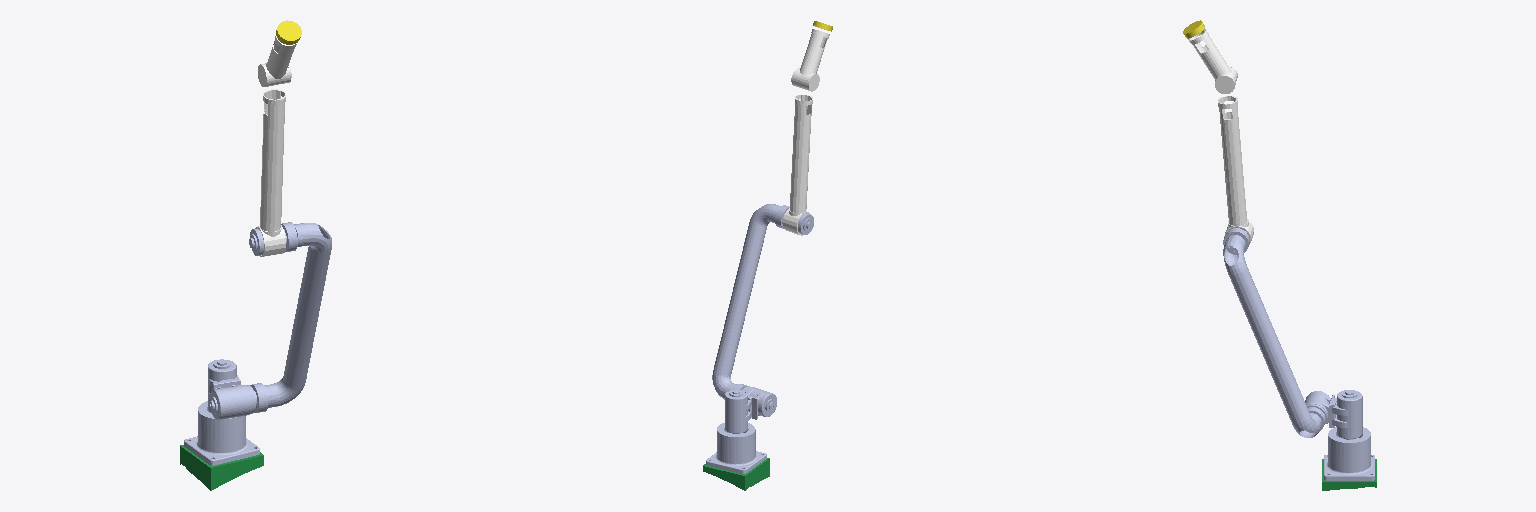
robot.urdf — satellite_5__starlink_sldasm9:
<?xml version='1.0' encoding='utf-8'?>
<robot name="satellite_5__starlink_sldasm9">
  <link name="base_link">
    <visual>
      <geometry>
        <mesh filename="../satellites/satellite_5/satellite.stl" scale="1 1 1" />
      </geometry>
      <material name="satellite_body_color">
        <color rgba="0.65 0.72 0.8 1" />
      </material>
    </visual>
    <collision>
      <geometry>
        <mesh filename="../satellites/satellite_5/satellite.stl" scale="1 1 1" />
      </geometry>
    </collision>
  </link>
  <link name="satellite_5_mount" />
  <joint name="satellite_mount_fixed" type="fixed">
    <parent link="base_link" />
    <child link="satellite_5_mount" />
    <origin xyz="-0.38 -0.12 1.1863715513837443" rpy="0.0 0.0 0.0" />
  </joint>
  <link name="concept_mount_pad">
    <visual>
      <geometry>
        <mesh filename="../satellites/satellite_5/body_top_saddle.stl" />
      </geometry>
      <material name="saddle_green">
        <color rgba=".2 .65 .35 1" />
      </material>
    </visual>
    <collision>
      <geometry>
        <mesh filename="../satellites/satellite_5/body_top_saddle.stl" />
      </geometry>
    </collision>
  </link>
  <joint name="pad_fixed" type="fixed">
    <parent link="satellite_5_mount" />
    <child link="concept_mount_pad" />
    <origin xyz="0 0 0" rpy="0 0 0" />
  </joint>
  <joint name="arm_adapter_fixed" type="fixed">
    <parent link="satellite_5_mount" />
    <child link="starlink_space_manipulator_base_link" />
    <origin xyz="0.009087204933166504 0.008519247174263 0.15000000141561035" rpy="-1.5707963267948966 0 0" />
  </joint>
  <link name="starlink_space_manipulator_base_link">
    <inertial>
      <origin xyz="-0.00908719924946466 0.0225428225681148 -0.00851924929637313" rpy="0 0 0" />
      <mass value="8.66024015898073" />
      <inertia ixx="0.0960303512697639" ixy="1.65511904636803E-18" ixz="6.22039820639877E-19" iyy="0.103454922260914" iyz="-9.68471289978311E-19" izz="0.0960303512697639" />
    </inertial>
    <visual>
      <origin xyz="0 0 0" rpy="0 0 0" />
      <geometry>
        <mesh filename="../arms/starlink_sldasm9/meshes/starlink_space_manipulator_base_link.STL" />
      </geometry>
      <material name="">
        <color rgba="0.792156862745098 0.819607843137255 0.933333333333333 1" />
      </material>
    </visual>
    <collision>
      <origin xyz="0 0 0" rpy="0 0 0" />
      <geometry>
        <mesh filename="../arms/starlink_sldasm9/meshes/starlink_space_manipulator_base_link.STL" />
      </geometry>
    </collision>
  </link>
  <link name="starlink_space_manipulator_Shoulder_link_1">
    <inertial>
      <origin xyz="-0.000399471745595769 -0.100006574194712 -0.17423940484461" rpy="0 0 0" />
      <mass value="5.16309216784981" />
      <inertia ixx="0.0524543852135592" ixy="0.00348154867667969" ixz="6.96526910910627E-05" iyy="0.0306595326318824" iyz="-0.00056674368052247" izz="0.0439979075615329" />
    </inertial>
    <visual>
      <origin xyz="0 0 0" rpy="0 0 0" />
      <geometry>
        <mesh filename="../arms/starlink_sldasm9/meshes/starlink_space_manipulator_Shoulder_link_1.STL" />
      </geometry>
      <material name="">
        <color rgba="0.792156862745098 0.819607843137255 0.933333333333333 1" />
      </material>
    </visual>
    <collision>
      <origin xyz="0 0 0" rpy="0 0 0" />
      <geometry>
        <mesh filename="../arms/starlink_sldasm9/meshes/starlink_space_manipulator_Shoulder_link_1.STL" />
      </geometry>
    </collision>
  </link>
  <joint name="starlink_space_manipulator_Shoulder_link_1_yaw" type="revolute">
    <origin xyz="-0.0090872 -0.065 -0.0085192" rpy="1.5708 -0.15574 3.1416" />
    <parent link="starlink_space_manipulator_base_link" />
    <child link="starlink_space_manipulator_Shoulder_link_1" />
    <axis xyz="0 0 -1" />
    <limit lower="-3.14" upper="3.14" effort="0" velocity="0" />
  </joint>
  <link name="starlink_space_manipulator_Upper_arm_Link_1">
    <inertial>
      <origin xyz="0.402106341472203 -0.696465272634528 -0.170177523085579" rpy="0 0 0" />
      <mass value="5.05309869040685" />
      <inertia ixx="0.388719013133801" ixy="0.210155896498943" ixz="9.30829370680679E-08" iyy="0.146049057575642" iyz="1.71830458004218E-07" izz="0.500677708275447" />
    </inertial>
    <visual>
      <origin xyz="0 0 0" rpy="0 0 0" />
      <geometry>
        <mesh filename="../arms/starlink_sldasm9/meshes/starlink_space_manipulator_Upper_arm_Link_1.STL" />
      </geometry>
      <material name="">
        <color rgba="0.792156862745098 0.819607843137255 0.933333333333333 1" />
      </material>
    </visual>
    <collision>
      <origin xyz="0 0 0" rpy="0 0 0" />
      <geometry>
        <mesh filename="../arms/starlink_sldasm9/meshes/starlink_space_manipulator_Upper_arm_Link_1.STL" />
      </geometry>
    </collision>
  </link>
  <joint name="starlink_space_manipulator_Upper_arm_Link_1_roll" type="revolute">
    <origin xyz="0 -0.2 -0.18" rpy="1.5708 0.90646 1.5708" />
    <parent link="starlink_space_manipulator_Shoulder_link_1" />
    <child link="starlink_space_manipulator_Upper_arm_Link_1" />
    <axis xyz="0 0 -1" />
    <limit lower="-2" upper="1.5" effort="0" velocity="0" />
  </joint>
  <link name="starlink_space_manipulator_Mid_arm_Link_1">
    <inertial>
      <origin xyz="-0.000406052776441013 0.317722269561105 0.0155331755135703" rpy="0 0 0" />
      <mass value="1.57635531881168" />
      <inertia ixx="0.133610363618846" ixy="5.33750993405138E-05" ixz="-3.60473795202962E-09" iyy="0.00502119434334708" iyz="-2.514275749911E-05" izz="0.134586018527477" />
    </inertial>
    <visual>
      <origin xyz="0 0 0" rpy="0 0 0" />
      <geometry>
        <mesh filename="../arms/starlink_sldasm9/meshes/starlink_space_manipulator_Mid_arm_Link_1.STL" />
      </geometry>
      <material name="">
        <color rgba="1 1 1 1" />
      </material>
    </visual>
    <collision>
      <origin xyz="0 0 0" rpy="0 0 0" />
      <geometry>
        <mesh filename="../arms/starlink_sldasm9/meshes/starlink_space_manipulator_Mid_arm_Link_1.STL" />
      </geometry>
    </collision>
  </link>
  <joint name="starlink_space_manipulator_Mid_arm_Link_1_roll" type="revolute">
    <origin xyz="0.599999999999673 -1.03923048454122 0" rpy="-3.14159265358979 0 0.828250280535091" />
    <parent link="starlink_space_manipulator_Upper_arm_Link_1" />
    <child link="starlink_space_manipulator_Mid_arm_Link_1" />
    <axis xyz="0 0 -1" />
    <limit lower="-3.14" upper="3.14" effort="0" velocity="0" />
  </joint>
  <link name="starlink_space_manipulator_Upper_wrist_Link_1">
    <inertial>
      <origin xyz="-0.000400003664721815 -0.201565878030355 -0.00216705855311664" rpy="0 0 0" />
      <mass value="0.994770641034713" />
      <inertia ixx="0.00165409639029414" ixy="-7.59103925411082E-06" ixz="-3.17403155320863E-06" iyy="0.00201437937768072" iyz="2.63246464091218E-06" izz="0.00159638838344539" />
    </inertial>
    <visual>
      <origin xyz="0 0 0" rpy="0 0 0" />
      <geometry>
        <mesh filename="../arms/starlink_sldasm9/meshes/starlink_space_manipulator_Upper_wrist_Link_1.STL" />
      </geometry>
      <material name="">
        <color rgba="0.792156862745098 0.819607843137255 0.933333333333333 1" />
      </material>
    </visual>
    <collision>
      <origin xyz="0 0 0" rpy="0 0 0" />
      <geometry>
        <mesh filename="../arms/starlink_sldasm9/meshes/starlink_space_manipulator_Upper_wrist_Link_1.STL" />
      </geometry>
    </collision>
  </link>
  <joint name="starlink_space_manipulator_Upper_wrist_Link_1_yaw" type="revolute">
    <origin xyz="-0.00050155183276912 0.686793643713439 0.0155010481432086" rpy="0 -0.0763876794035917 3.14159265358979" />
    <parent link="starlink_space_manipulator_Mid_arm_Link_1" />
    <child link="starlink_space_manipulator_Upper_wrist_Link_1" />
    <axis xyz="0 -1 0" />
    <limit lower="-3.14" upper="3.14" effort="0" velocity="0" />
  </joint>
  <link name="starlink_space_manipulator_Upper_wrist_Link_2">
    <inertial>
      <origin xyz="8.45304168883843E-08 0.0848318719623631 -0.00515657391755576" rpy="0 0 0" />
      <mass value="1.03716823037577" />
      <inertia ixx="0.0100970561498589" ixy="1.32295633551837E-09" ixz="-9.43675929999229E-09" iyy="0.00222325407426665" iyz="-2.08772874866187E-06" izz="0.0105840577017538" />
    </inertial>
    <visual>
      <origin xyz="0 0 0" rpy="0 0 0" />
      <geometry>
        <mesh filename="../arms/starlink_sldasm9/meshes/starlink_space_manipulator_Upper_wrist_Link_2.STL" />
      </geometry>
      <material name="">
        <color rgba="1 1 1 1" />
      </material>
    </visual>
    <collision>
      <origin xyz="0 0 0" rpy="0 0 0" />
      <geometry>
        <mesh filename="../arms/starlink_sldasm9/meshes/starlink_space_manipulator_Upper_wrist_Link_2.STL" />
      </geometry>
    </collision>
  </link>
  <joint name="starlink_space_manipulator_Upper_wrist_Link_2_roll" type="revolute">
    <origin xyz="0 -0.30020635628656 0" rpy="-0.0158640776811277 -0.0317448426184613 -2.67805461574742" />
    <parent link="starlink_space_manipulator_Upper_wrist_Link_1" />
    <child link="starlink_space_manipulator_Upper_wrist_Link_2" />
    <axis xyz="0 0 1" />
    <limit lower="-2.5" upper="1.8" effort="0" velocity="0" />
  </joint>
  <link name="starlink__space_manipulator_2F-Body_Link">
    </link>
  <joint name="starlink__space_manipulator_2F-Body_Link_yaw" type="revolute">
    <origin xyz="0 0.34845 -0.0053813" rpy="-3.1416 0.93592 0" />
    <parent link="starlink_space_manipulator_Upper_wrist_Link_2" />
    <child link="starlink__space_manipulator_2F-Body_Link" />
    <axis xyz="0 -1 0" />
    <limit lower="-3.14" upper="3.14" effort="0" velocity="0" />
  </joint>
  <link name="angular_hand">
    <visual>
      <geometry>
        <mesh filename="../arms/starlink_sldasm9/meshes/hand_2finger.STL" scale="2 2 2" />
      </geometry>
    </visual>
    <collision>
      <geometry>
        <mesh filename="../arms/starlink_sldasm9/meshes/hand_2finger.STL" scale="2 2 2" />
      </geometry>
    </collision>
  </link>
  <joint name="angular_hand_fixed" type="fixed">
    <parent link="starlink__space_manipulator_2F-Body_Link" />
    <child link="angular_hand" />
    <origin xyz="0 -0.036 0" rpy="-1.5707963267948966 0 0" />
  </joint>
  <link name="angular_adapter">
    <visual>
      <geometry>
        <mesh filename="../arms/starlink_sldasm9/meshes/angular_adapter.stl" />
      </geometry>
    </visual>
    <collision>
      <geometry>
        <mesh filename="../arms/starlink_sldasm9/meshes/angular_adapter.stl" />
      </geometry>
    </collision>
  </link>
  <joint name="angular_adapter_fixed" type="fixed">
    <parent link="starlink__space_manipulator_2F-Body_Link" />
    <child link="angular_adapter" />
    <origin xyz="0 -0.0005 0" rpy="1.5707963267948966 0 0" />
  </joint>
  <link name="angular_finger_1">
    <visual>
      <geometry>
        <mesh filename="../arms/starlink_sldasm9/meshes/finger_proximal.STL" scale="2 2 2" />
      </geometry>
    </visual>
    <collision>
      <geometry>
        <mesh filename="../arms/starlink_sldasm9/meshes/finger_proximal.STL" scale="2 2 2" />
      </geometry>
    </collision>
  </link>
  <link name="angular_tip_1">
    <visual>
      <geometry>
        <mesh filename="../arms/starlink_sldasm9/meshes/finger_distal.STL" scale="2 2 2" />
      </geometry>
    </visual>
    <collision>
      <geometry>
        <mesh filename="../arms/starlink_sldasm9/meshes/finger_distal.STL" scale="2 2 2" />
      </geometry>
    </collision>
  </link>
  <joint name="angular_joint_1" type="revolute">
    <parent link="angular_hand" />
    <child link="angular_finger_1" />
    <axis xyz="0 0 1" />
    <origin xyz="-0.005 0.0619 -0.22964" rpy="-1.570796327 .649262481663582 1.5707963267948966" />
    <limit lower="0" upper="1.51" effort="2" velocity="1" />
  </joint>
  <joint name="angular_joint_tip_1" type="revolute">
    <parent link="angular_finger_1" />
    <child link="angular_tip_1" />
    <axis xyz="0 0 1" />
    <origin xyz="0.088 -0.006 0.0" rpy="0 0 0" />
    <limit lower="0" upper="2" effort="2" velocity="1" />
  </joint>
  <link name="angular_finger_2">
    <visual>
      <geometry>
        <mesh filename="../arms/starlink_sldasm9/meshes/finger_proximal.STL" scale="2 2 2" />
      </geometry>
    </visual>
    <collision>
      <geometry>
        <mesh filename="../arms/starlink_sldasm9/meshes/finger_proximal.STL" scale="2 2 2" />
      </geometry>
    </collision>
  </link>
  <link name="angular_tip_2">
    <visual>
      <geometry>
        <mesh filename="../arms/starlink_sldasm9/meshes/finger_distal.STL" scale="2 2 2" />
      </geometry>
    </visual>
    <collision>
      <geometry>
        <mesh filename="../arms/starlink_sldasm9/meshes/finger_distal.STL" scale="2 2 2" />
      </geometry>
    </collision>
  </link>
  <joint name="angular_joint_2" type="revolute">
    <parent link="angular_hand" />
    <child link="angular_finger_2" />
    <axis xyz="0 0 1" />
    <origin xyz="-0.005 -0.0619 -0.22964" rpy="-1.570796327 .649262481663582 -1.5707963267948966" />
    <limit lower="0" upper="1.51" effort="2" velocity="1" />
  </joint>
  <joint name="angular_joint_tip_2" type="revolute">
    <parent link="angular_finger_2" />
    <child link="angular_tip_2" />
    <axis xyz="0 0 1" />
    <origin xyz="0.088 -0.006 0.0" rpy="0 0 0" />
    <limit lower="0" upper="2" effort="2" velocity="1" />
  </joint>
  <link name="angular_tcp" />
  <joint name="angular_tcp_fixed" type="fixed">
    <parent link="angular_hand" />
    <child link="angular_tcp" />
    <origin xyz="-0.005 0 -0.34" rpy="3.141592653589793 0 0" />
  </joint>
</robot>

--- Facts derived from the render (not from the file) ---
The picture shows the robot from 3 angles, left to right: view 1: azimuth 30°, elevation 25°; view 2: azimuth 150°, elevation 25°; view 3: azimuth 270°, elevation 25°; orthographic projection.
Robot: satellite_5__starlink_sldasm9 — 17 links, 16 joints (10 revolute, 6 fixed); root link base_link; default pose: all joints at 0.
Visible links, largest first — view 1: starlink_space_manipulator_Upper_arm_Link_1, starlink_space_manipulator_Mid_arm_Link_1, starlink_space_manipulator_base_link, starlink_space_manipulator_Shoulder_link_1, concept_mount_pad, starlink_space_manipulator_Upper_wrist_Link_2; view 2: starlink_space_manipulator_Upper_arm_Link_1, starlink_space_manipulator_Mid_arm_Link_1, starlink_space_manipulator_base_link, starlink_space_manipulator_Shoulder_link_1, starlink_space_manipulator_Upper_wrist_Link_2, concept_mount_pad; view 3: starlink_space_manipulator_Upper_arm_Link_1, starlink_space_manipulator_Mid_arm_Link_1, starlink_space_manipulator_base_link, starlink_space_manipulator_Shoulder_link_1, starlink_space_manipulator_Upper_wrist_Link_2, concept_mount_pad.
Link boxes in pixels (x1,y1,x2,y2): starlink_space_manipulator_Upper_arm_Link_1: [209, 222, 331, 407]; starlink_space_manipulator_Mid_arm_Link_1: [255, 89, 285, 256]; starlink_space_manipulator_base_link: [184, 401, 259, 465]; starlink_space_manipulator_Shoulder_link_1: [208, 359, 267, 419]; concept_mount_pad: [180, 445, 263, 490]; starlink_space_manipulator_Upper_wrist_Link_2: [258, 36, 297, 86]; starlink_space_manipulator_Upper_arm_Link_1: [712, 204, 813, 407]; starlink_space_manipulator_Mid_arm_Link_1: [782, 95, 812, 235]; starlink_space_manipulator_base_link: [706, 423, 766, 473]; starlink_space_manipulator_Shoulder_link_1: [725, 384, 776, 433]; starlink_space_manipulator_Upper_wrist_Link_2: [791, 29, 829, 91]; concept_mount_pad: [703, 458, 769, 490]; starlink_space_manipulator_Upper_arm_Link_1: [1223, 219, 1321, 437]; starlink_space_manipulator_Mid_arm_Link_1: [1218, 96, 1253, 244]; starlink_space_manipulator_base_link: [1324, 427, 1374, 480]; starlink_space_manipulator_Shoulder_link_1: [1305, 390, 1362, 439]; starlink_space_manipulator_Upper_wrist_Link_2: [1188, 28, 1237, 93]; concept_mount_pad: [1322, 459, 1376, 490].
Size in the robot's own frame: 0.5238 by 1.13 by 2.96 metres.
7 mesh visuals loaded from 12 distinct referenced files (7 binary STL); not drawn: 7 (reference not matched to a file when rendering).
